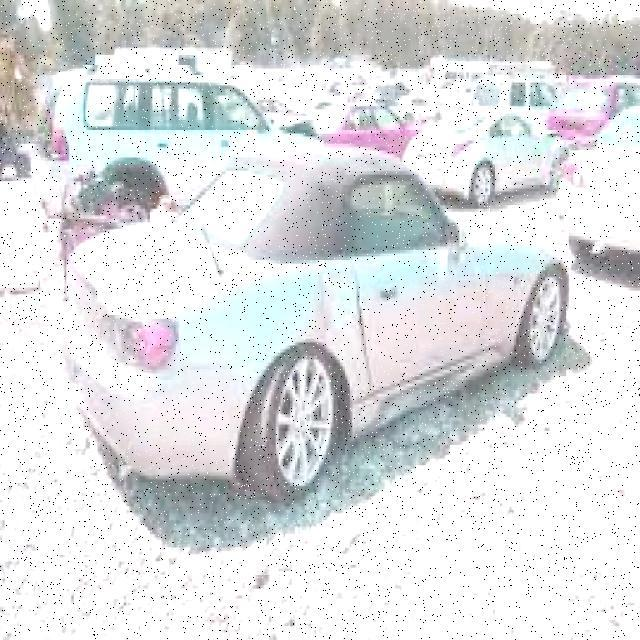car damage: (364, 344, 478, 424), (308, 254, 364, 338)
